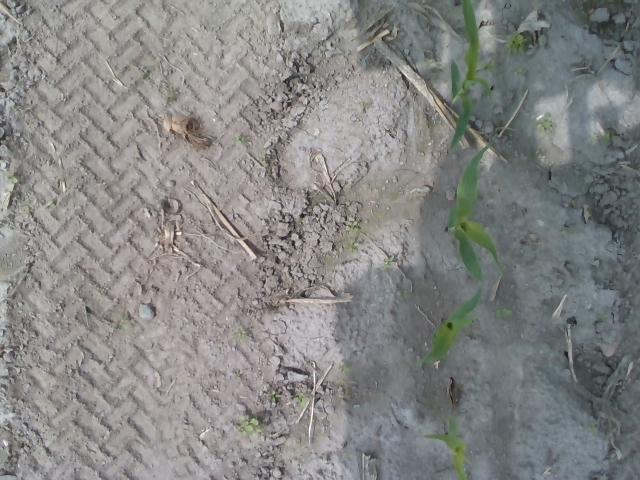Maize: (444, 146, 508, 288), (450, 0, 496, 154), (415, 284, 478, 370), (425, 412, 469, 480)
Weeds: (237, 414, 263, 439), (503, 32, 528, 54), (536, 118, 554, 134), (494, 306, 514, 320), (344, 238, 362, 253), (482, 59, 497, 76), (231, 134, 251, 146), (270, 389, 282, 404), (513, 64, 528, 76), (336, 362, 352, 373), (1, 174, 18, 184), (344, 221, 359, 232), (384, 255, 396, 268), (422, 58, 437, 68), (296, 394, 306, 406), (233, 327, 246, 336)
